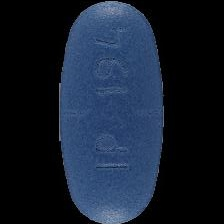50268-593: (0, 0, 224, 224)
